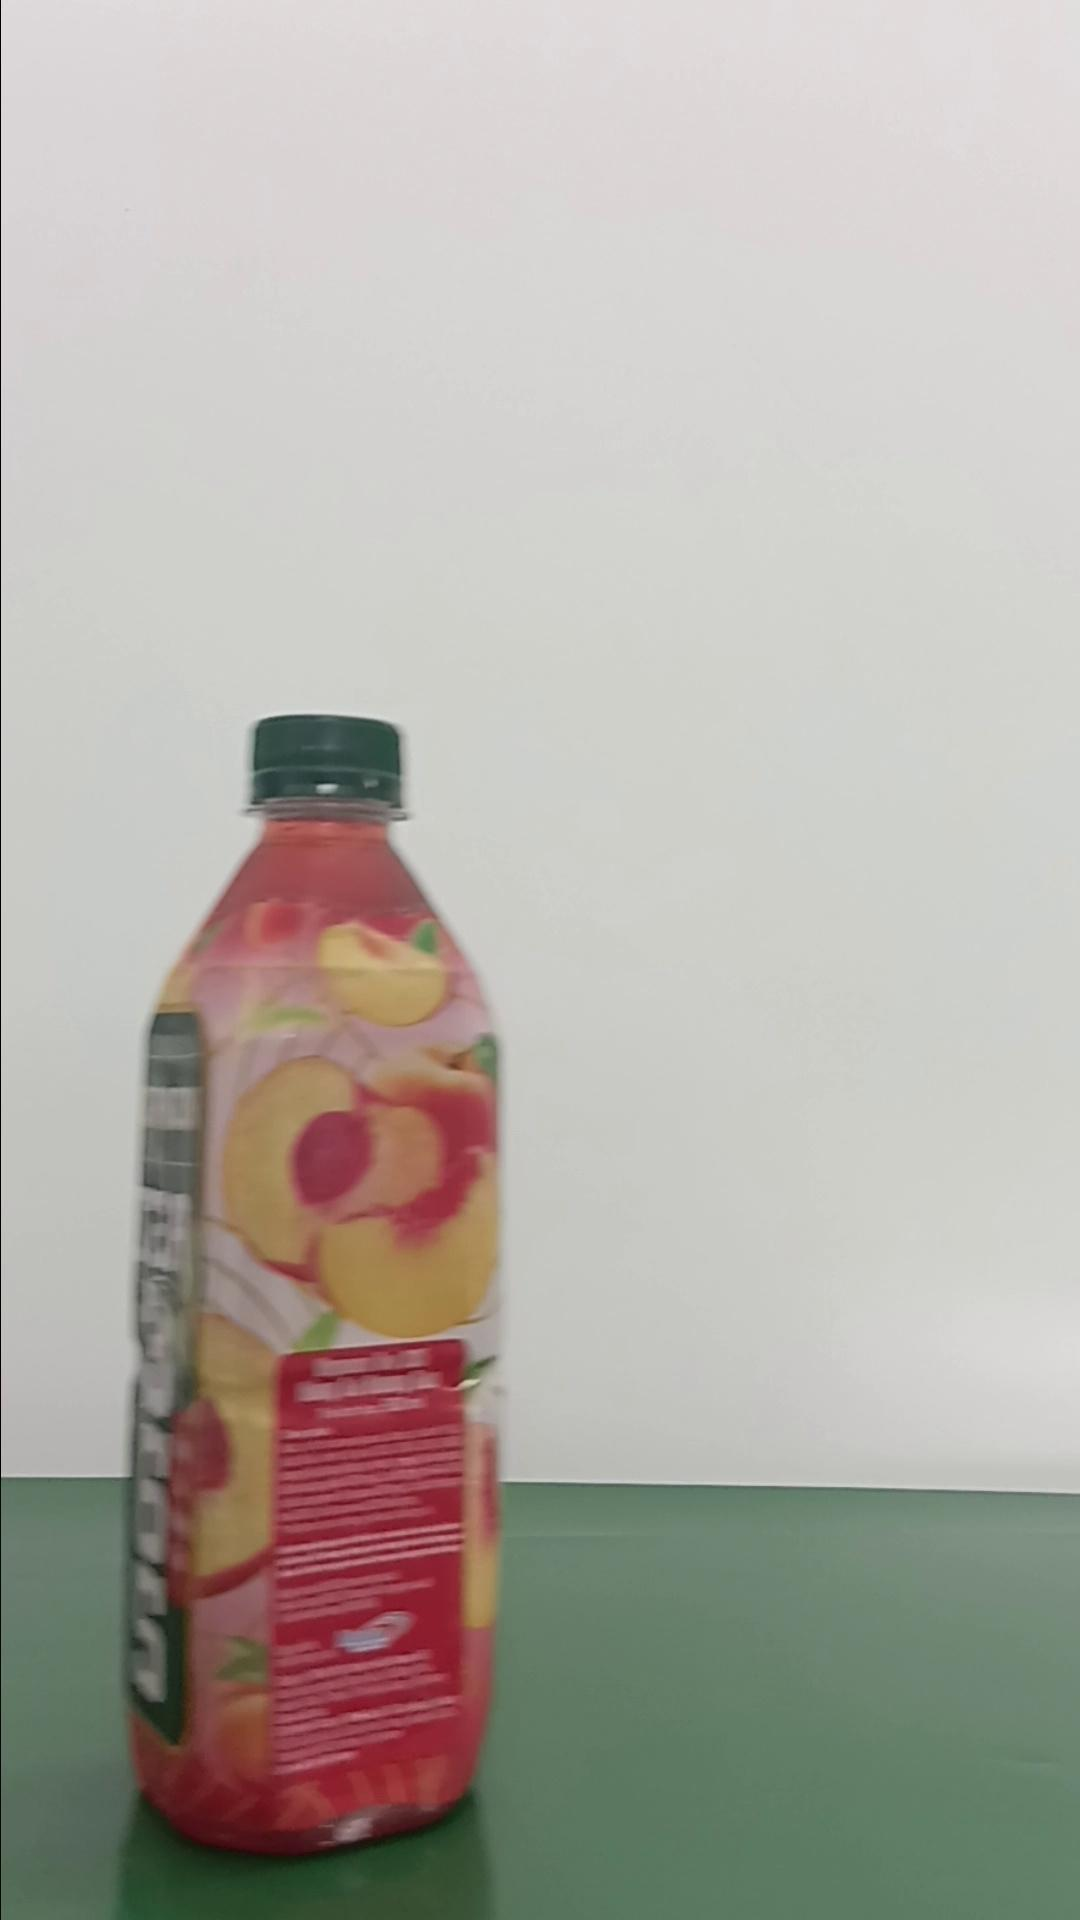khong loi: (123, 709, 509, 1855)
